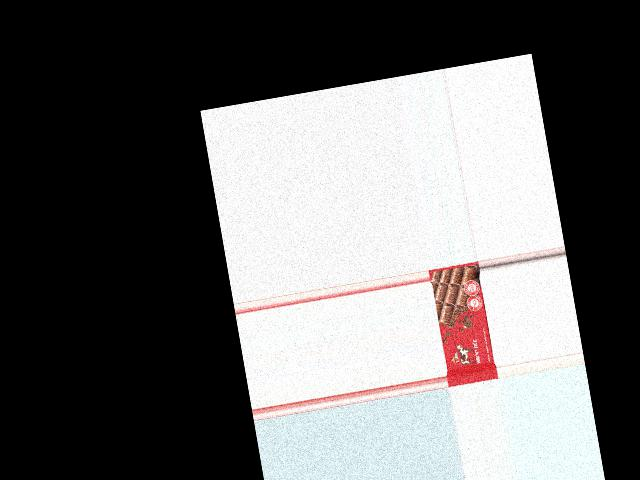chocolate: (429, 262, 498, 388)
